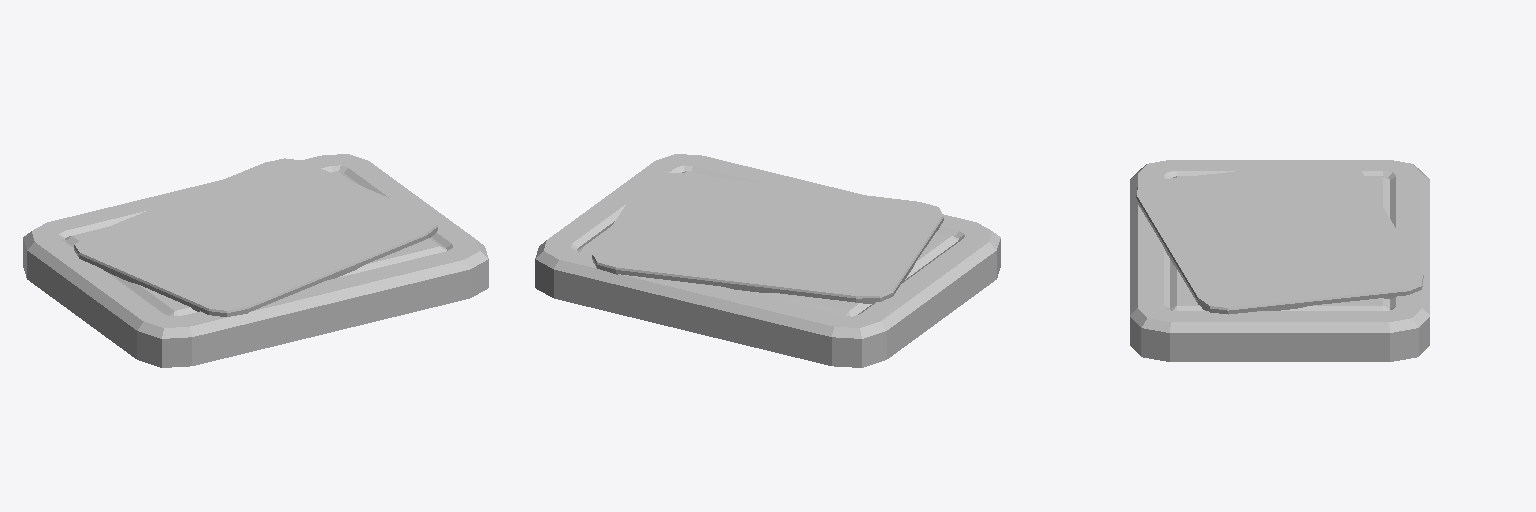
File: serving_tray.obj
3 views of the same model, side by side, from view 1: azimuth 30°, elevation 25°; view 2: azimuth 150°, elevation 25°; view 3: azimuth 270°, elevation 25° (orthographic).
Parts seen in each view (by area): view 1: serving_tray; view 2: serving_tray; view 3: serving_tray.
Part boxes in pixels (bbox=[...]): serving_tray: bbox=[23, 154, 488, 367]; serving_tray: bbox=[535, 154, 1000, 367]; serving_tray: bbox=[1130, 160, 1429, 361].
Bounding box in the file's own units: 1 × 0.1175 × 0.75.